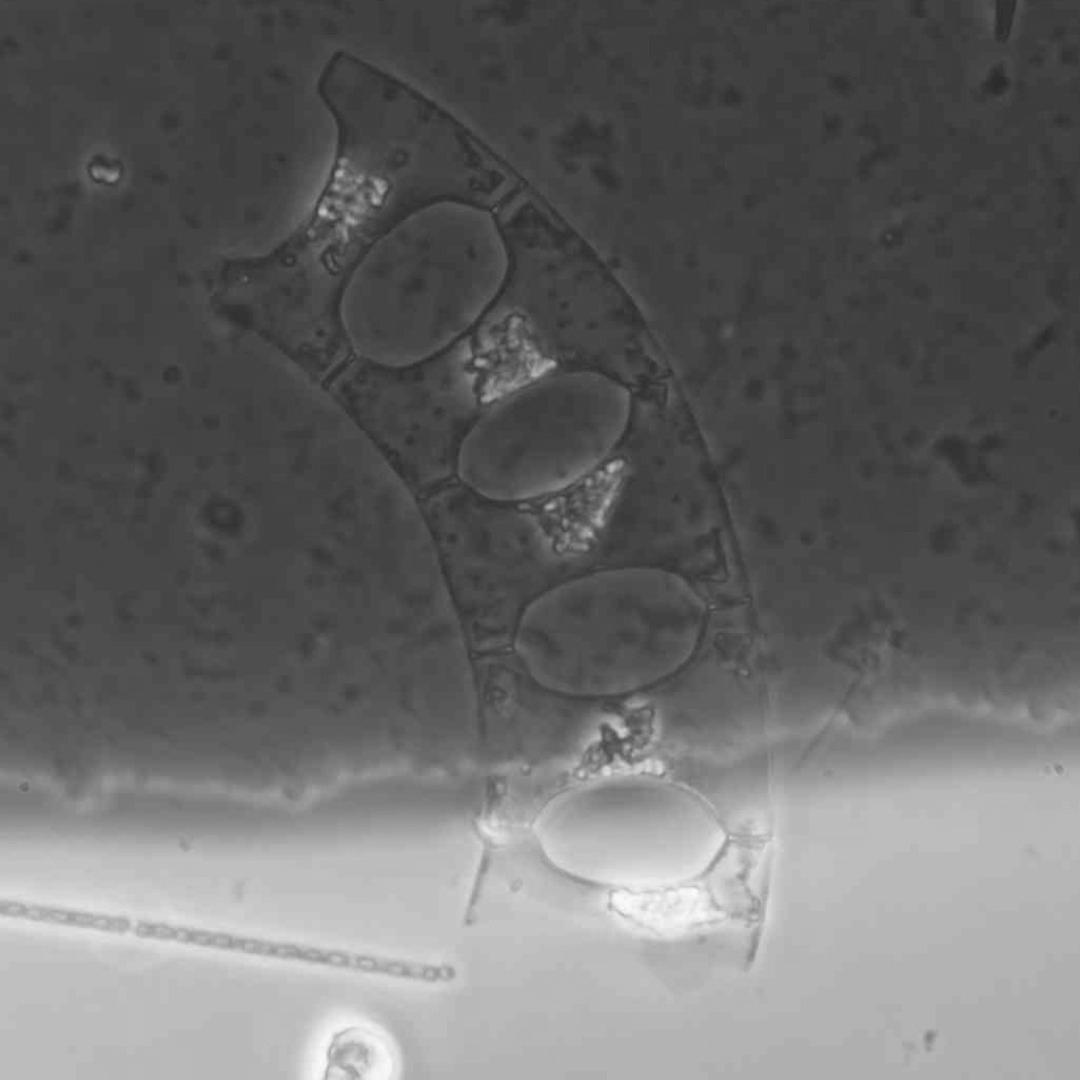eucampia_zodiacus: (211, 48, 779, 971)
